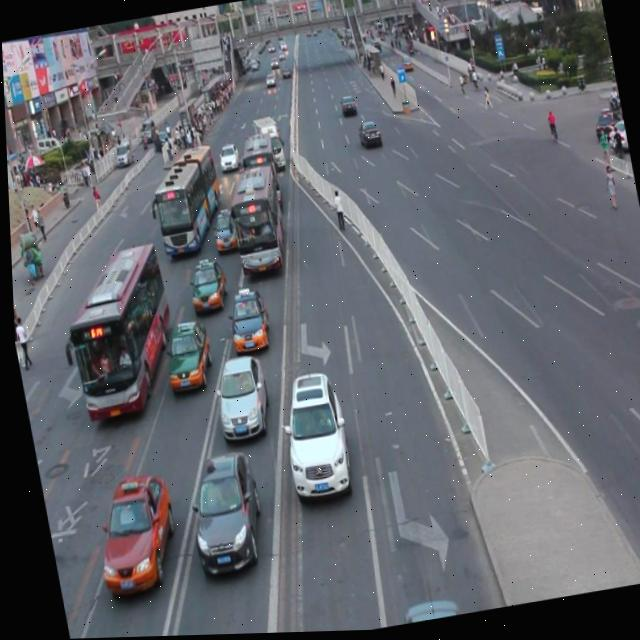bus: (251, 120, 285, 171)
car: (82, 469, 179, 594), (178, 452, 266, 578), (272, 369, 353, 500), (207, 352, 270, 441), (156, 317, 213, 389), (222, 284, 269, 354), (182, 256, 228, 314), (391, 597, 457, 627), (207, 209, 239, 251), (215, 143, 240, 174), (354, 123, 380, 152), (264, 123, 283, 149)
van: (49, 242, 182, 421), (141, 145, 228, 256), (220, 165, 290, 279), (235, 134, 282, 214)
